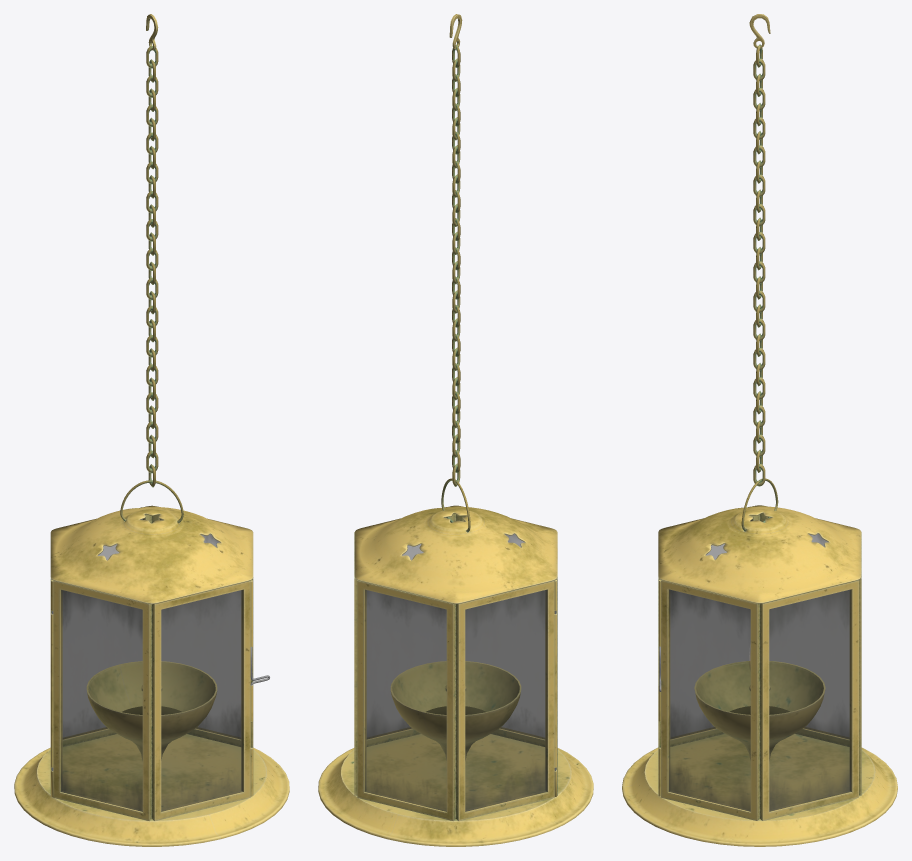
Rendered from brass_diya_lantern_1k.glb.
3 views of the same model, side by side, from view 1: azimuth 30°, elevation 25°; view 2: azimuth 150°, elevation 25°; view 3: azimuth 270°, elevation 25° (orthographic).
Visible parts, largest first — view 1: brass_diya_lantern, brass_diya_lantern_chain; view 2: brass_diya_lantern, brass_diya_lantern_chain; view 3: brass_diya_lantern, brass_diya_lantern_chain.
Part boxes in pixels (x1,y1,x2,y2): brass_diya_lantern: (14,505,289,846); brass_diya_lantern_chain: (146,14,158,487); brass_diya_lantern: (318,505,593,846); brass_diya_lantern_chain: (449,14,462,486); brass_diya_lantern: (622,505,897,846); brass_diya_lantern_chain: (749,14,770,486).
Bounding box in the file's own units: 0.123 × 0.3808 × 0.123.
3 materials, 3 textured.
